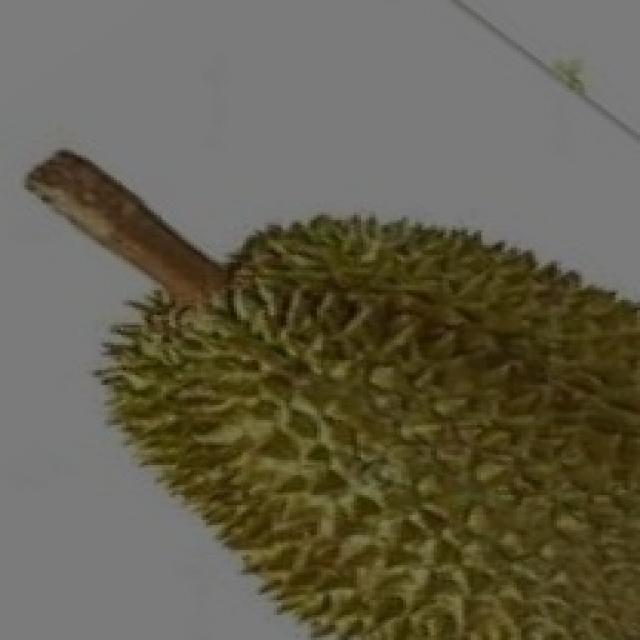fruit: (46, 242, 428, 632)
